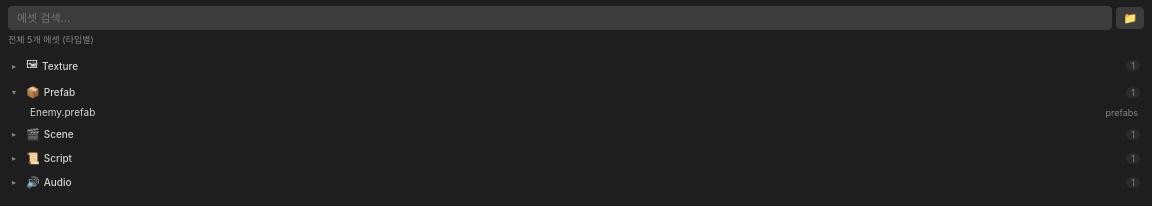
Test: CCFileAssetBrowser › search filters assets by name (prefab visible by default)
Expected: the text "Enemy.prefab" is shown, [30, 106, 95, 118]
Type "Enemy" into the field with placeholder "에셋 검색..." at {"x": 560, "y": 18}, box [8, 6, 1112, 30]
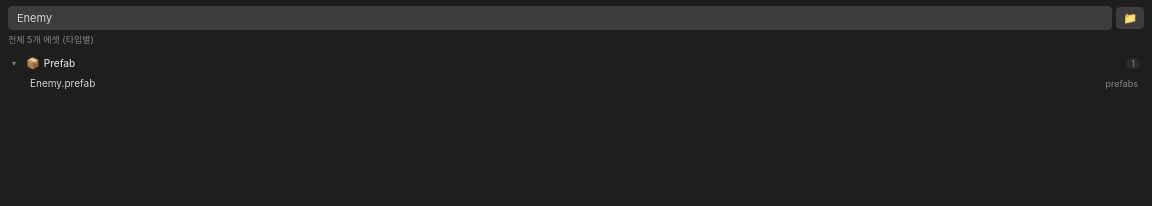
Expected: the text "Enemy.prefab" is shown, [30, 77, 95, 89]
Result: the text "Audio" is gone
